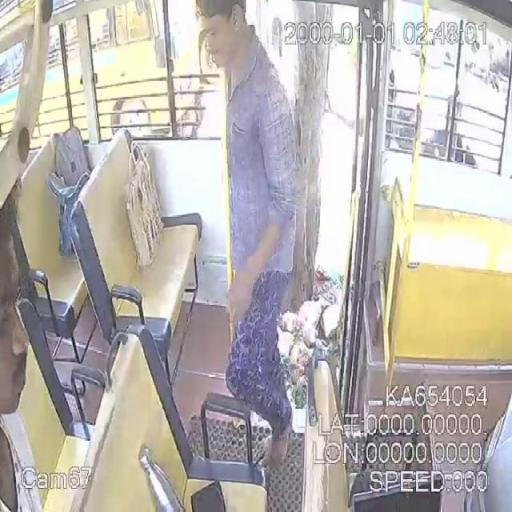persona: (196, 0, 303, 470)
